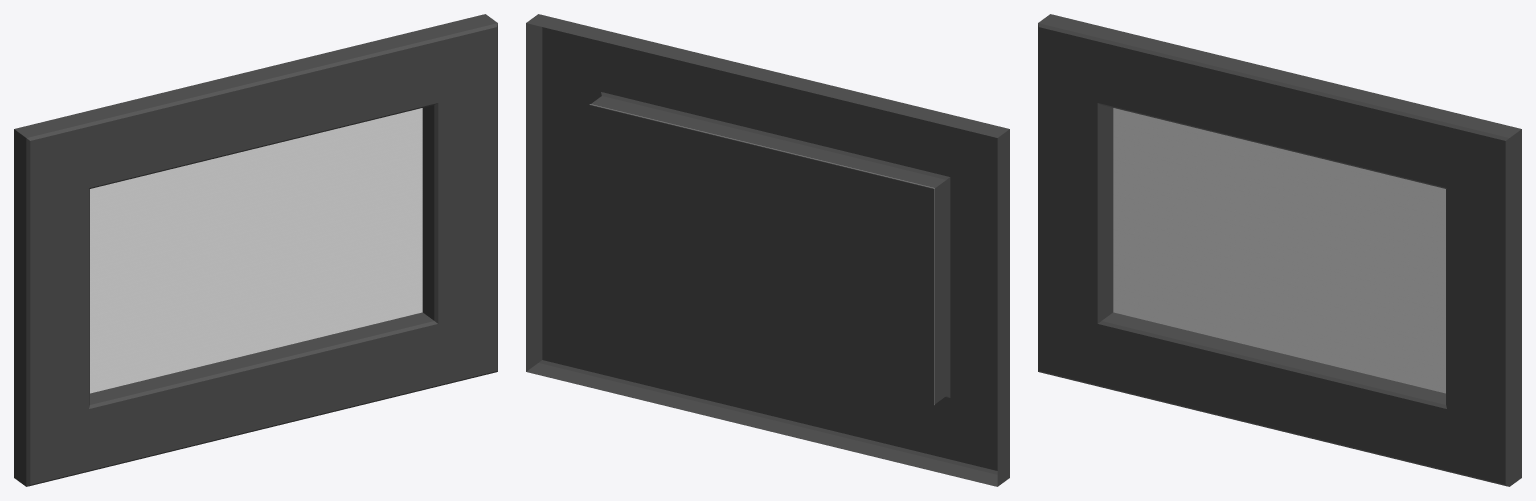
Rendered from PictureFrame.FBX.
3 views of the same model, side by side, from view 1: azimuth 30°, elevation 25°; view 2: azimuth 150°, elevation 25°; view 3: azimuth 330°, elevation 25° (orthographic).
Parts seen in each view (by area): view 1: okvir; view 2: okvir; view 3: okvir.
Boxes of the visible parts, x1,y1,x2,y2 form: okvir: (14, 14, 497, 486); okvir: (526, 14, 1009, 486); okvir: (1038, 14, 1521, 486).
Size of the model in its own units: 29.7 by 1.5 by 21.
2 materials, 1 textured.
